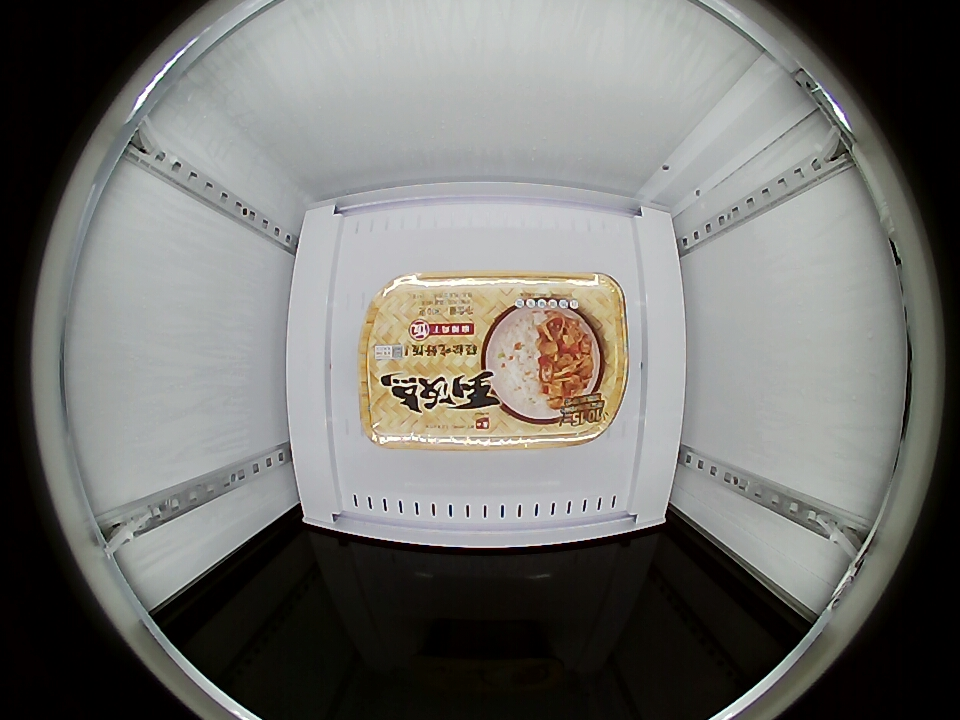daofandian4: (357, 270, 631, 452)
